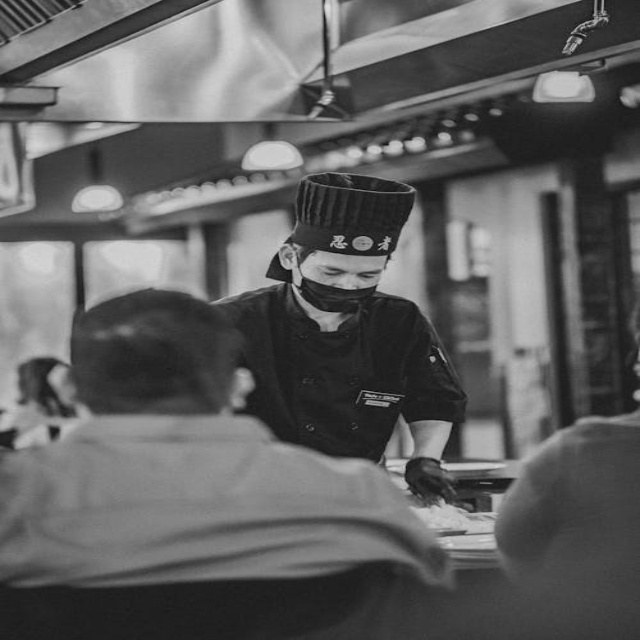Guantes: (404, 456, 460, 505)
Mascara: (292, 265, 380, 313)
Sin_gafas: (306, 258, 383, 282)
